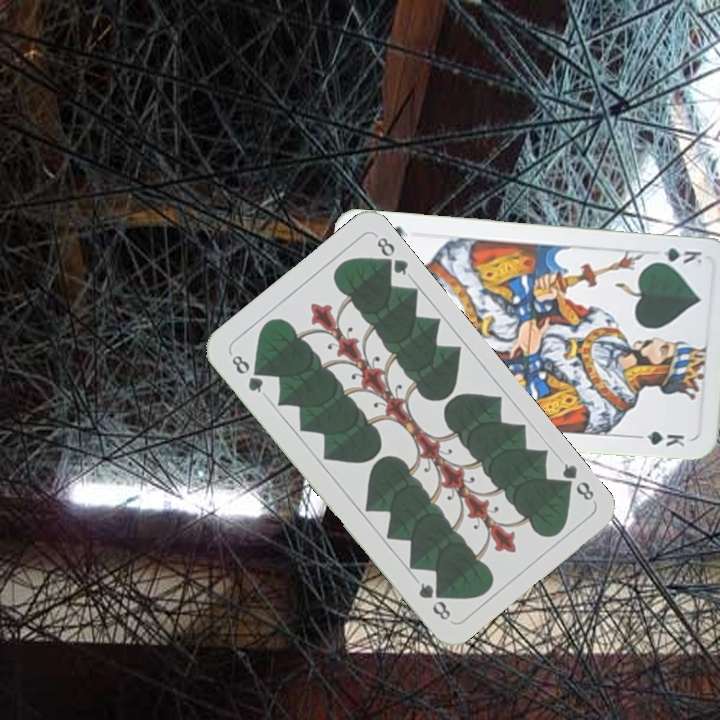G8: (554, 459, 597, 504), (227, 348, 266, 396)
GK: (647, 243, 705, 267)
